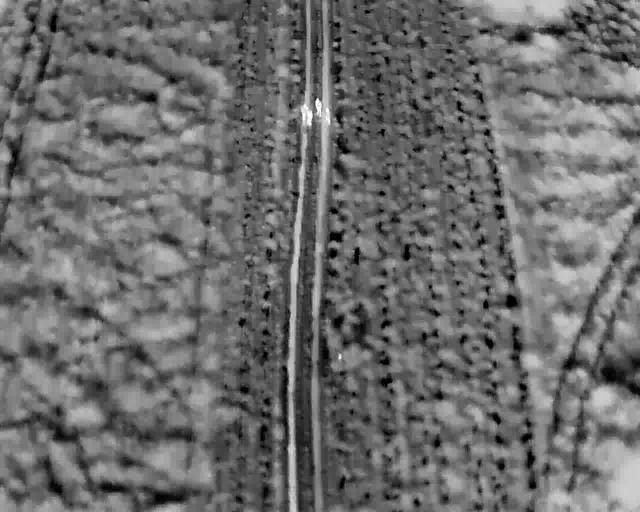person: (299, 103, 310, 123), (313, 96, 323, 116), (323, 106, 333, 125), (305, 107, 314, 127)
